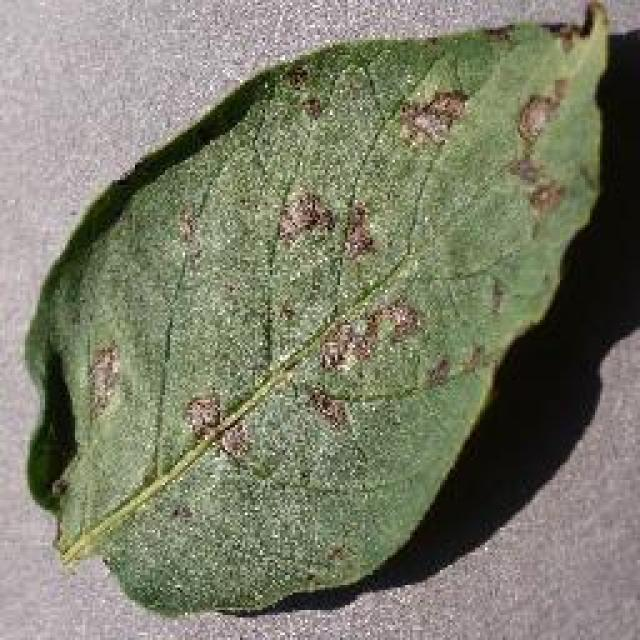Potato: (20, 0, 612, 615)
